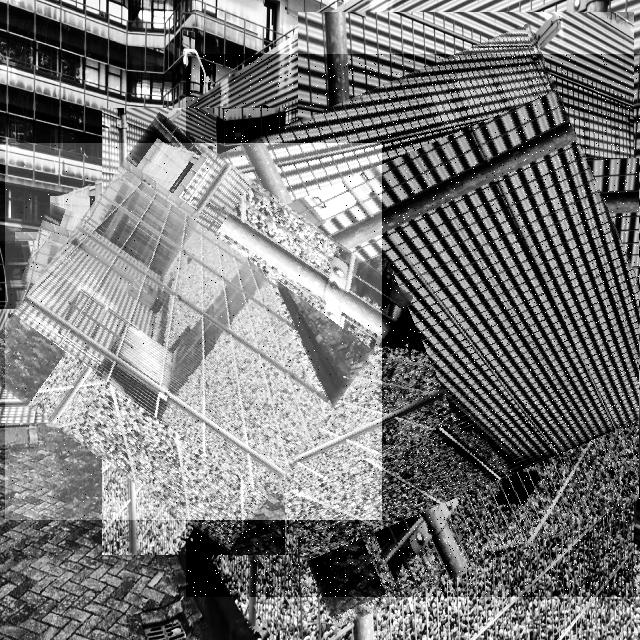fences: (186, 54, 640, 597), (5, 143, 382, 520), (27, 209, 118, 300)
